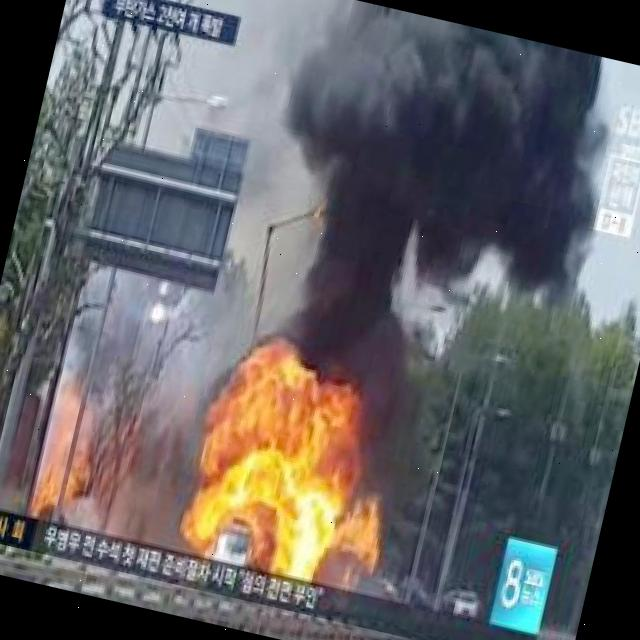fire: (181, 342, 372, 586), (26, 442, 80, 518)
